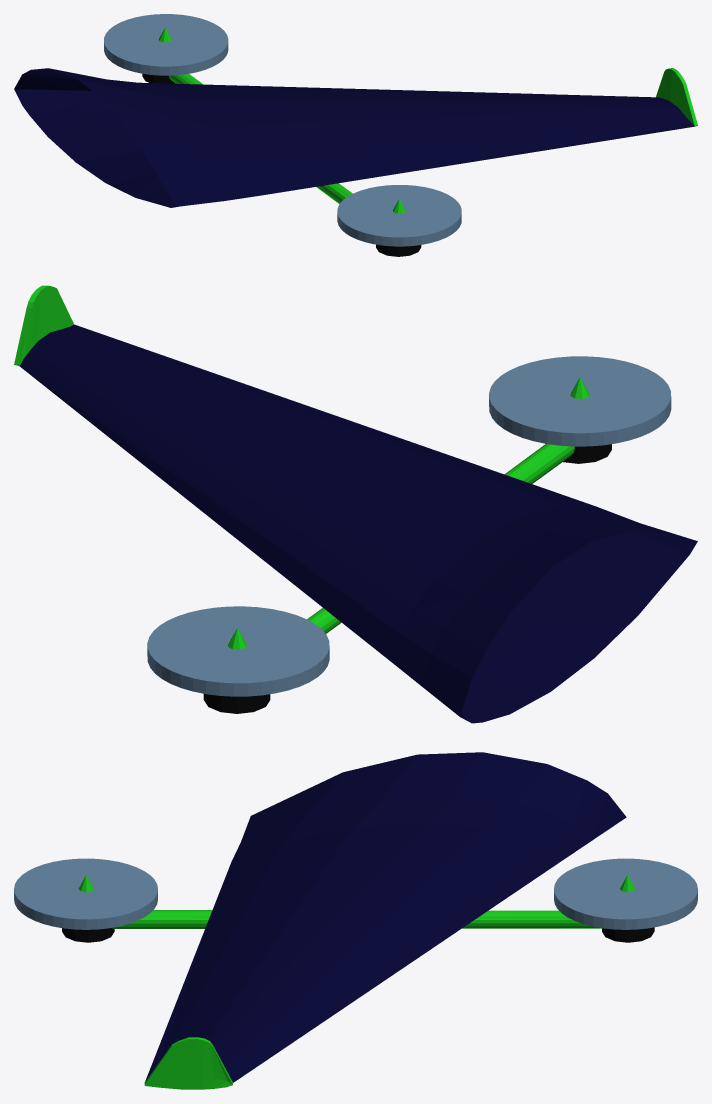
File: vtol5.obj
3 views of the same model, one above another, from view 1: azimuth 30°, elevation 25°; view 2: azimuth 150°, elevation 25°; view 3: azimuth 270°, elevation 25° (orthographic). The views are drawn at different scales.
Parts seen in each view (by area): view 1: vtol_refactor; view 2: vtol_refactor; view 3: vtol_refactor.
Boxes of the visible parts, x1,y1,x2,y2 form: vtol_refactor: [14, 14, 697, 256]; vtol_refactor: [14, 285, 697, 723]; vtol_refactor: [14, 752, 697, 1089].
Size of the model in its own units: 0.705 by 0.1196 by 0.7594.
